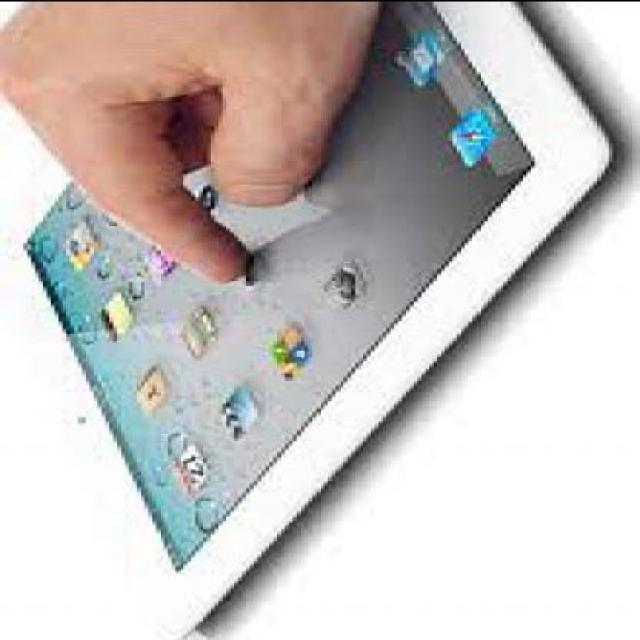tablet: (0, 0, 621, 640)
